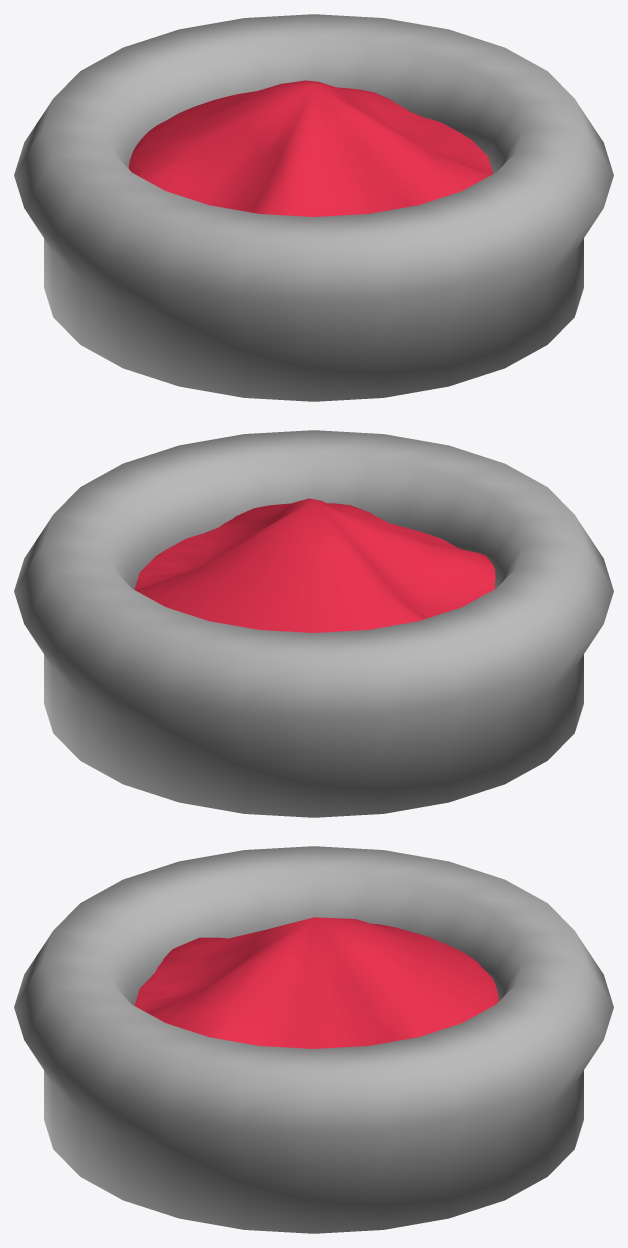
Rendered from PaintBucket.glb.
3 views of the same model, one above another, from view 1: azimuth 30°, elevation 25°; view 2: azimuth 150°, elevation 25°; view 3: azimuth 270°, elevation 25° (orthographic).
Visible parts, largest first — view 1: Torus, Paint; view 2: Torus, Paint; view 3: Torus, Paint.
Boxes of the visible parts, <box> form: Torus: <box>14,14,613,401</box>; Paint: <box>128,80,493,216</box>; Torus: <box>14,430,613,817</box>; Paint: <box>134,498,495,632</box>; Torus: <box>14,846,613,1233</box>; Paint: <box>134,917,498,1048</box>.
Bounding box in the file's own units: 2.5 × 0.9304 × 2.5.
